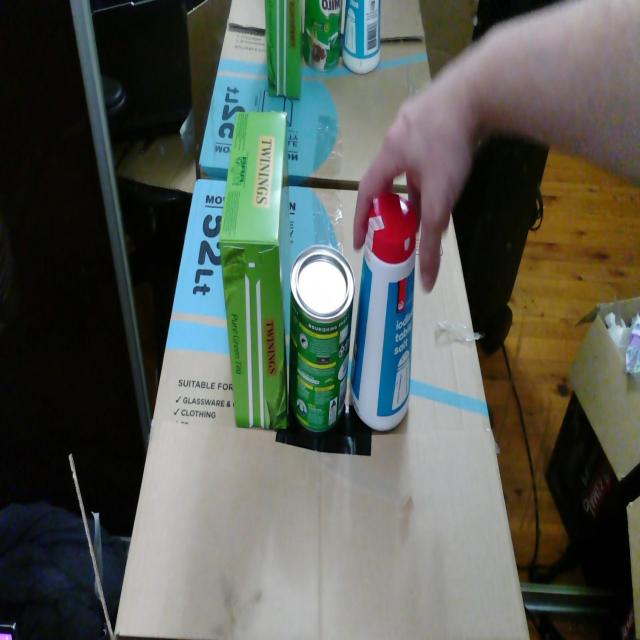nestle_milo_tin: (289, 244, 355, 432)
twinings_greentea_box: (218, 113, 290, 428)
woolworths_salt_bottle: (349, 192, 418, 430)
